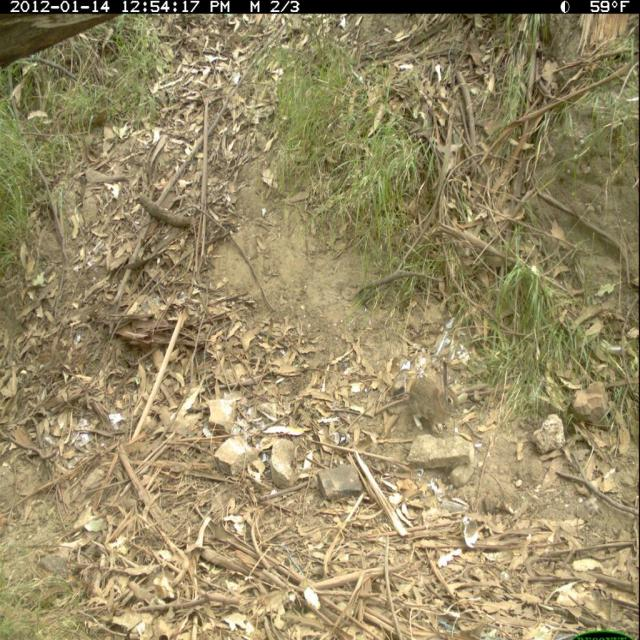rabbit: (403, 352, 473, 442)
